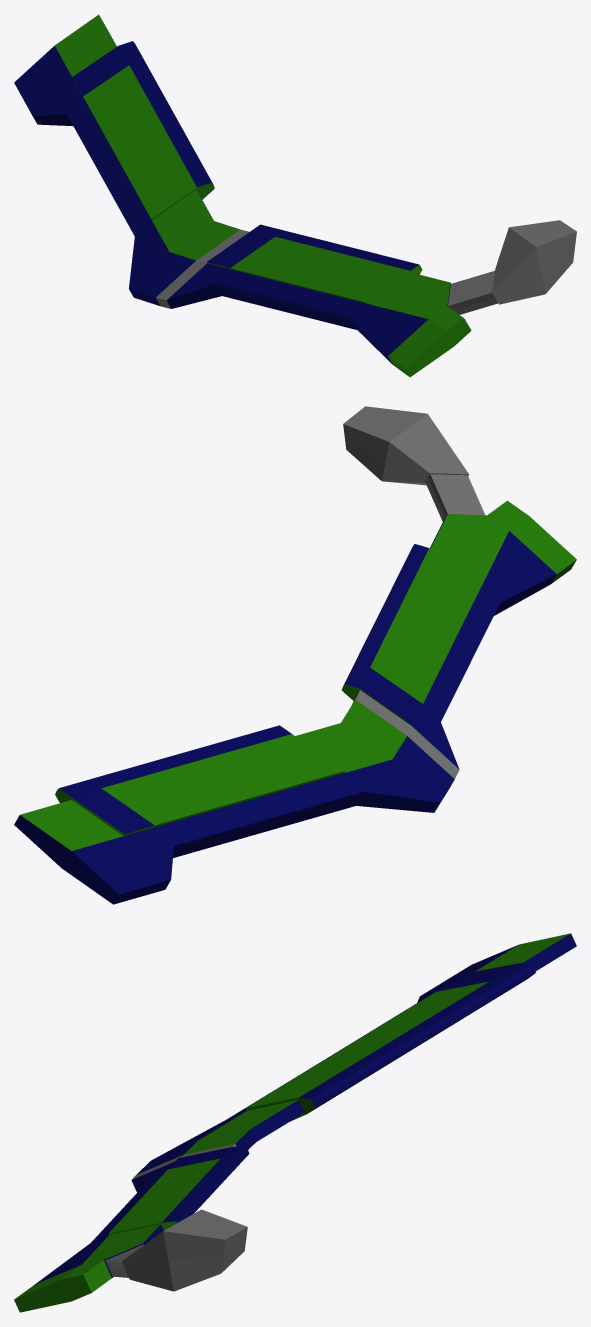
The model's file is ARC_FinL_Part_Wipeout.fbx.
3 renders of one model, top to bottom at view 1: azimuth 30°, elevation 25°; view 2: azimuth 150°, elevation 25°; view 3: azimuth 330°, elevation 25°, orthographic. The views are drawn at different scales.
Visible parts, largest first — view 1: ARCc_FinL_Ship; view 2: ARCc_FinL_Ship; view 3: ARCc_FinL_Ship.
Boxes of the visible parts, x1,y1,x2,y2 form: ARCc_FinL_Ship: (14, 14, 576, 377); ARCc_FinL_Ship: (14, 406, 576, 904); ARCc_FinL_Ship: (14, 933, 576, 1312).
Bounding box in the file's own units: 4.3 × 2.33 × 11.38.
